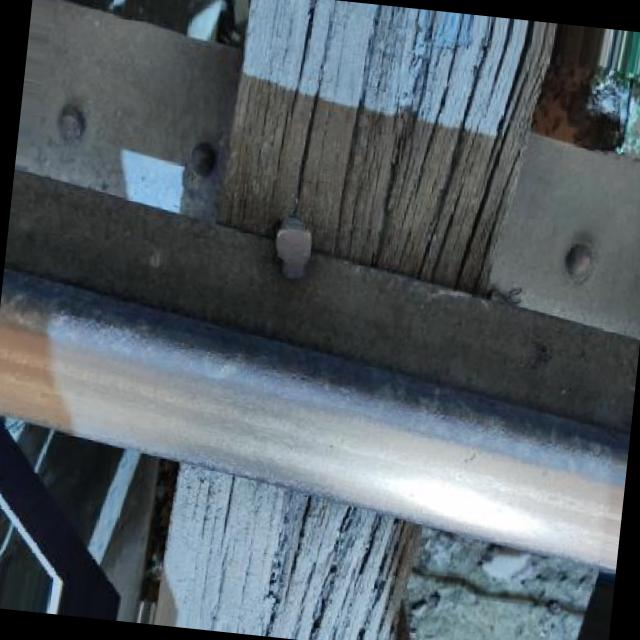non-defective: (0, 164, 640, 623)
